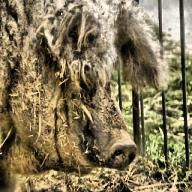boar: (0, 0, 167, 191)
